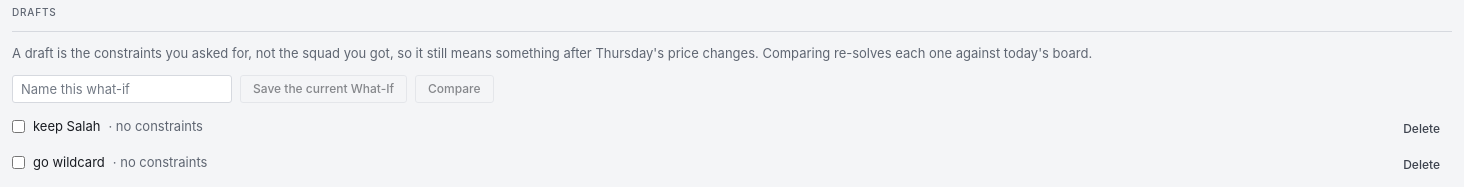
Test: DraftsTab › deletes a draft through DELETE
The image size is (1464, 187).
What coordinates should you click on to do the following:
click the button with aria-label "delete keep Salah"
I would click on:
 (1422, 129)
Its box is [1391,115,1452,143].
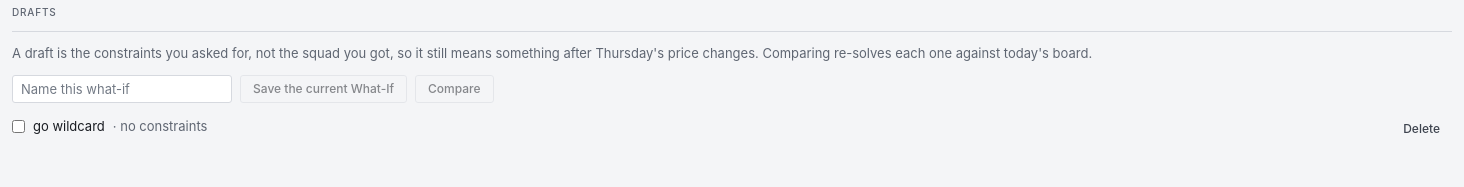
Check: the text "keep Salah" is gone
